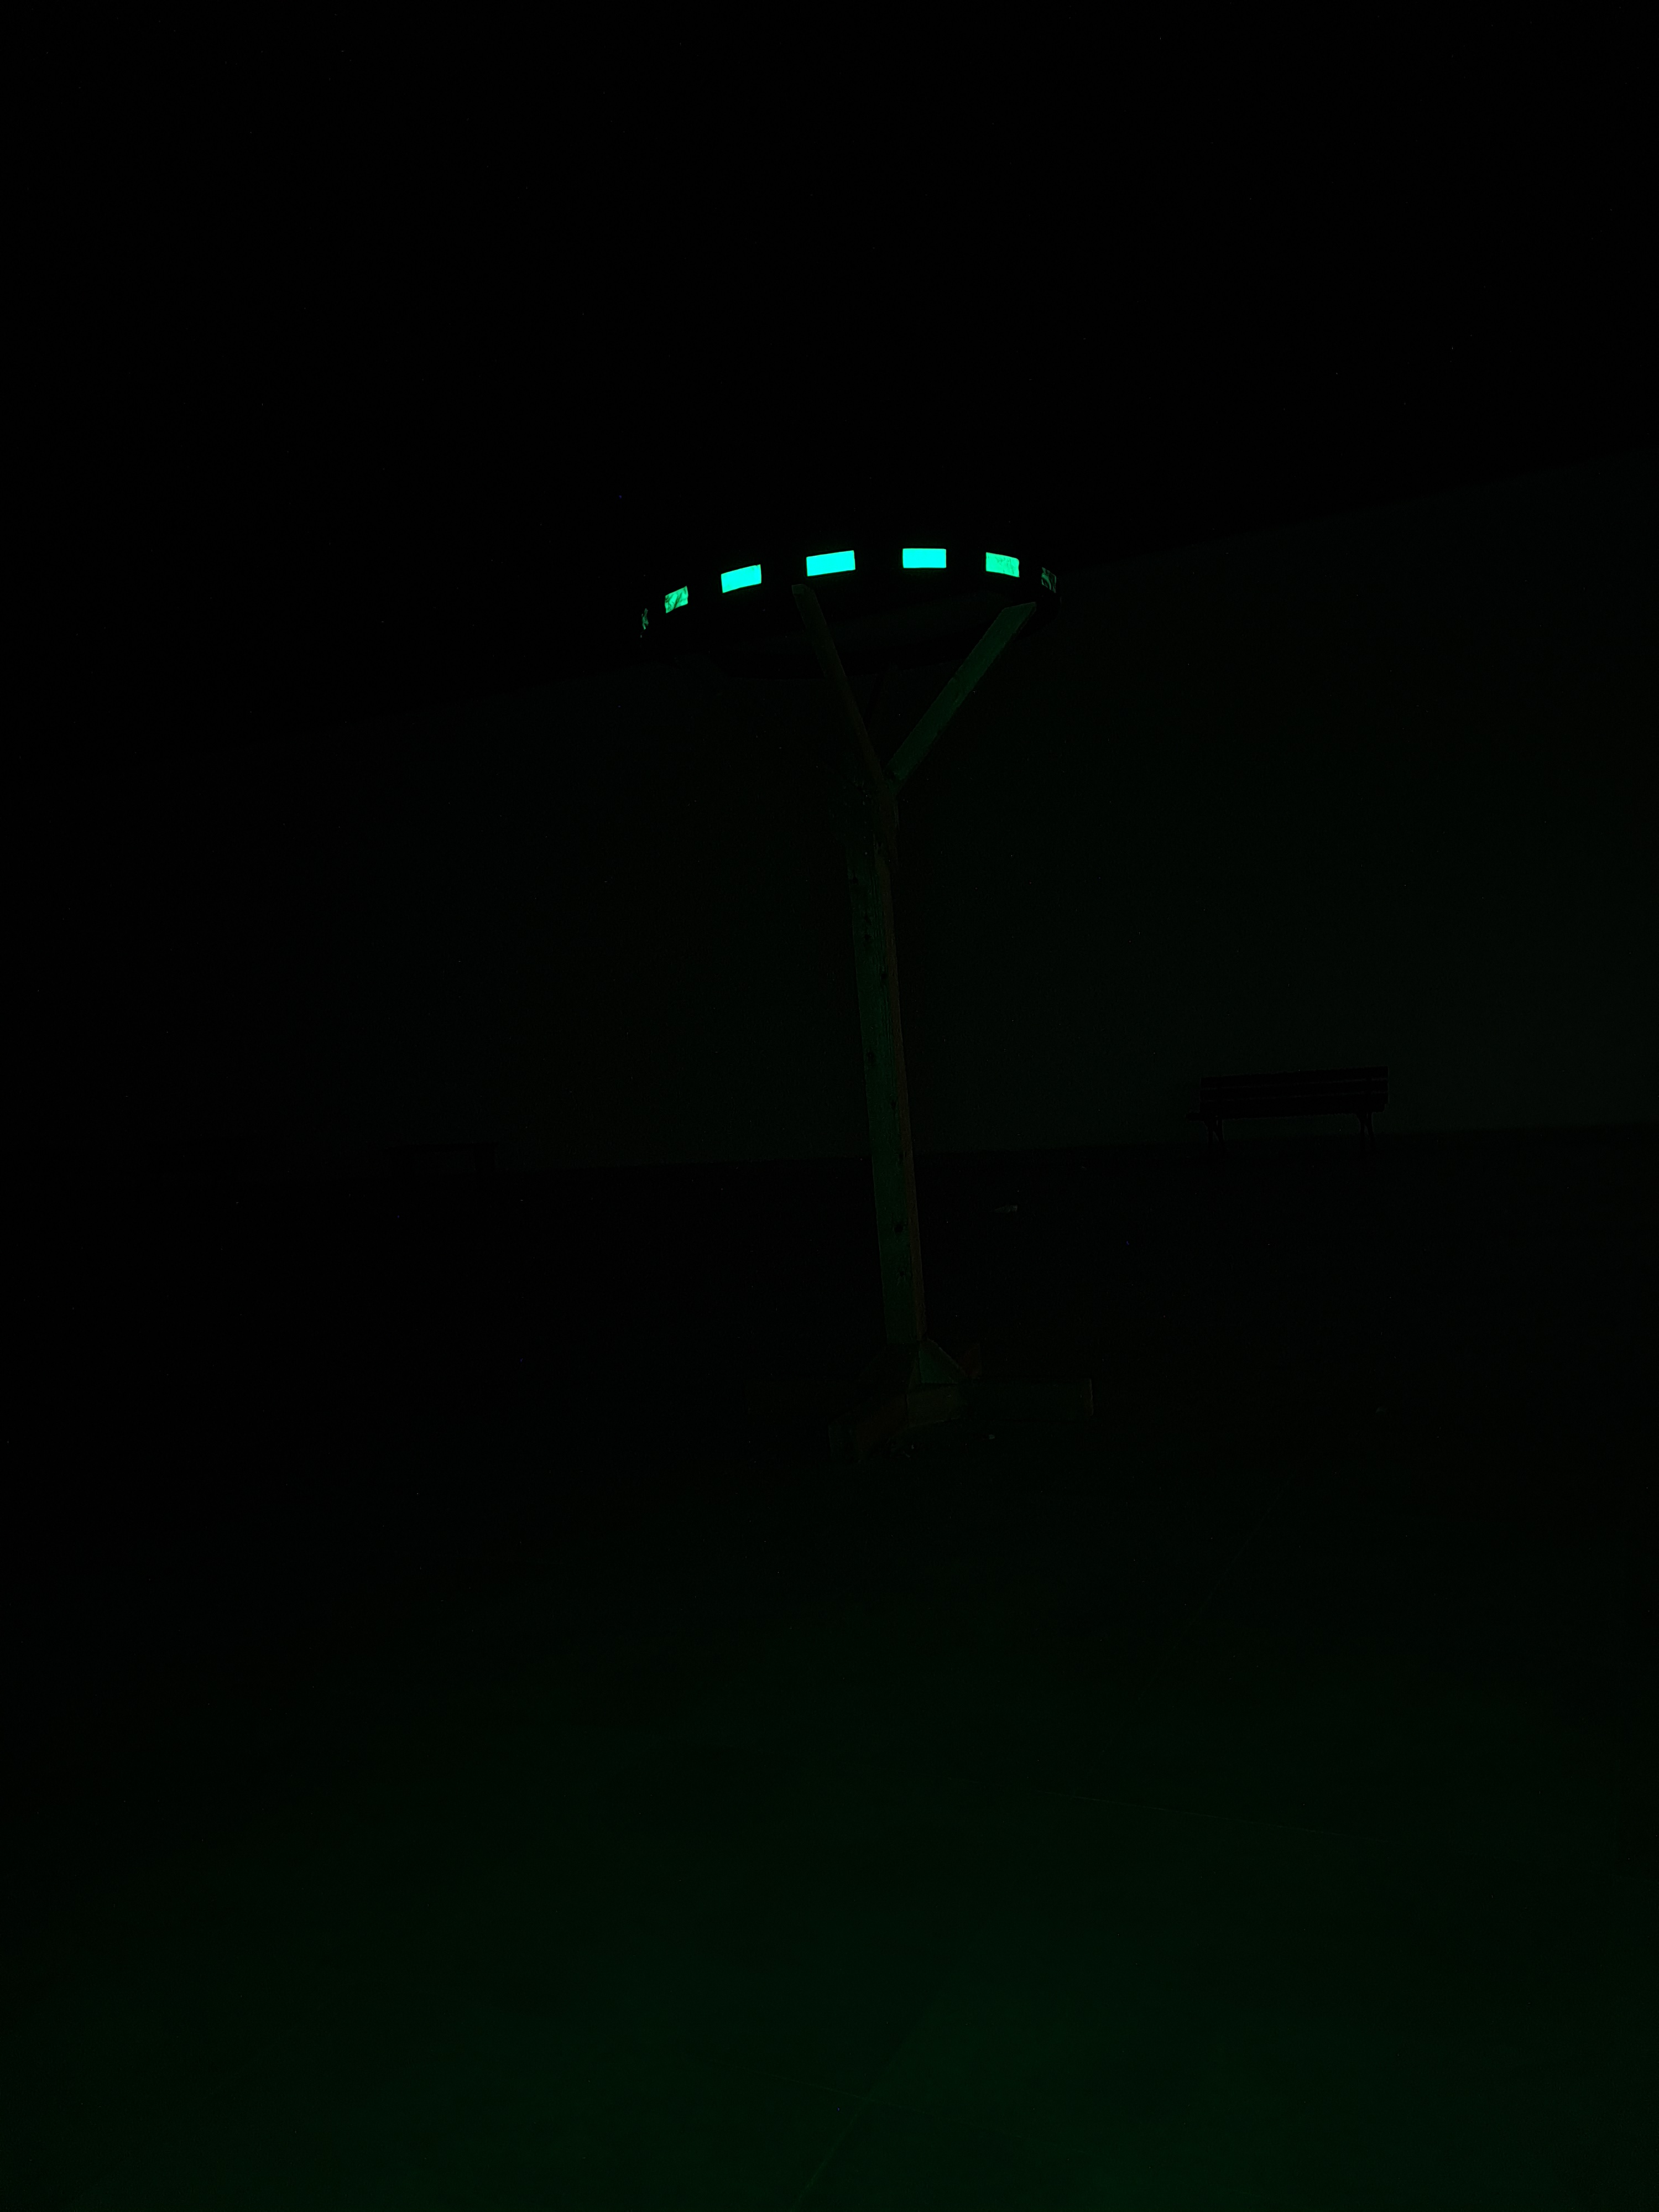hoop: (636, 542, 1061, 644)
